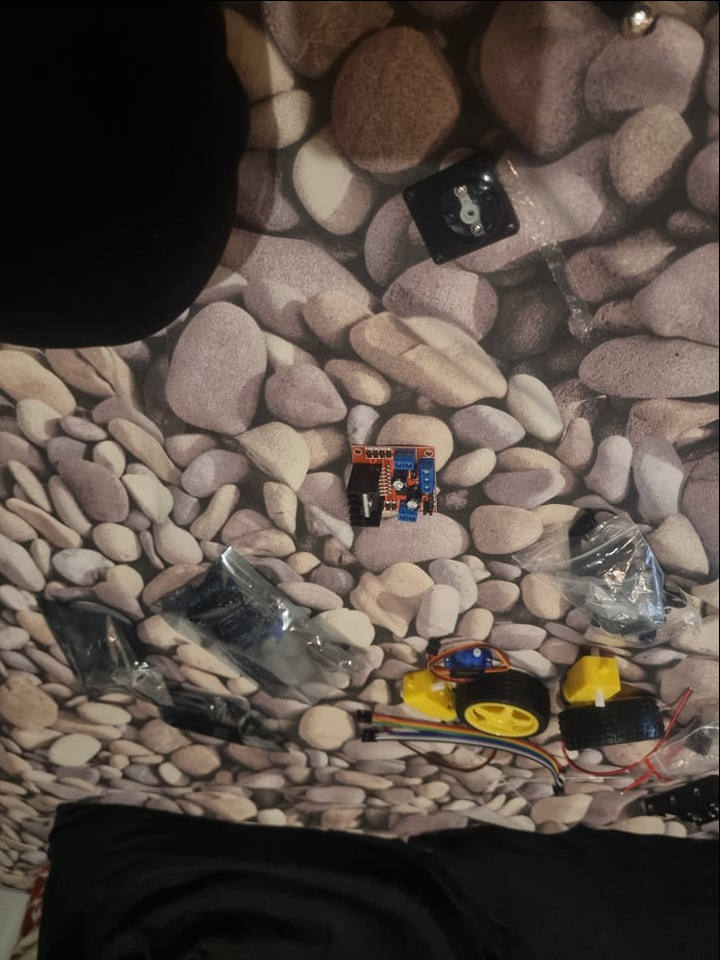BATTERY BOX: (645, 775, 720, 830)
MOTOR: (342, 441, 437, 529)
